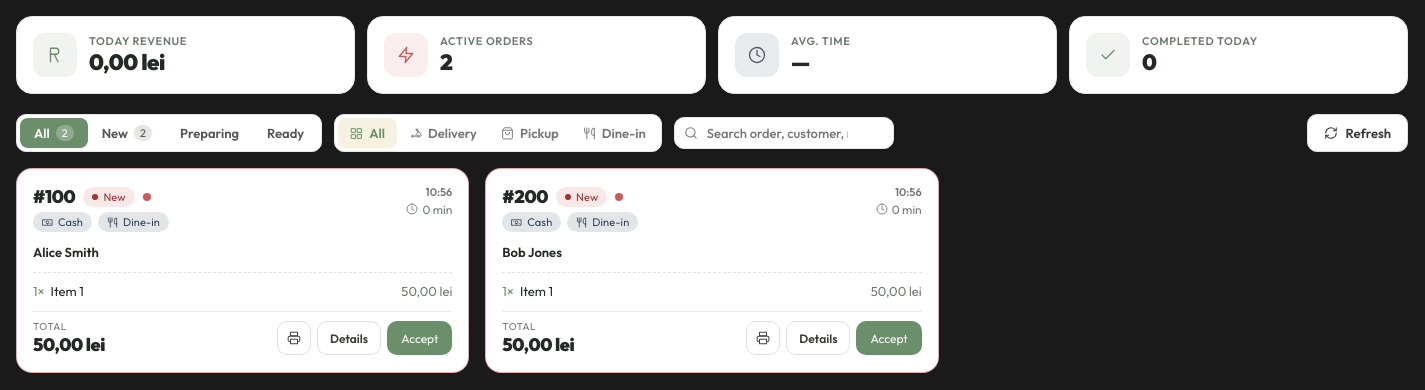
Test: OrdersScreen › ORD-03: client-side search by order ID and customer name › search by dailyOrderNumber filters visible orders
Type "100" into the search field with placeholder "Search order, customer, number…" at (784,133), box x1=674 y1=117 x2=894 y2=149
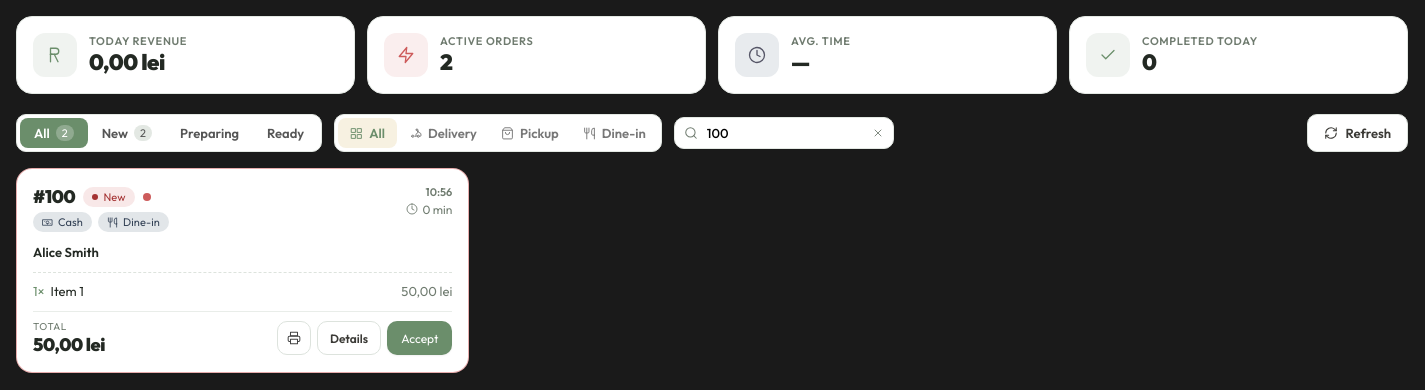
Expected: the text "#100" is shown, x1=33 y1=185 x2=75 y2=208
Now the text "#200" is gone
